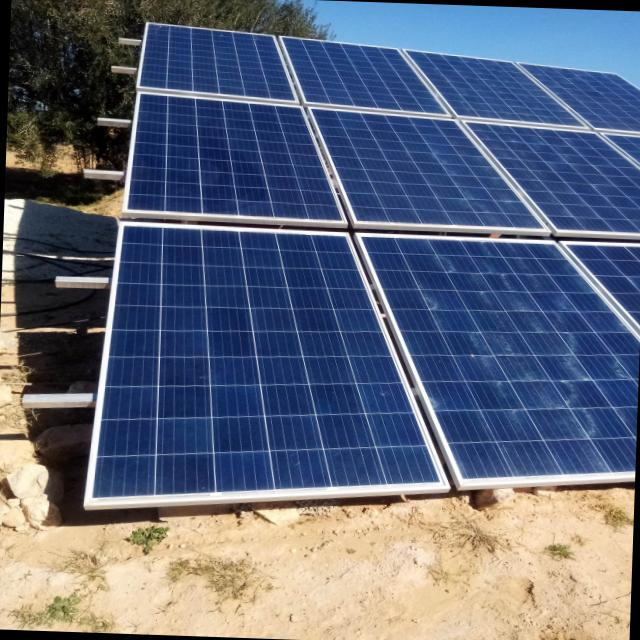faulty: (364, 237, 639, 483), (315, 111, 544, 225), (132, 95, 331, 215), (475, 124, 640, 233), (405, 49, 580, 123), (527, 67, 640, 129), (150, 26, 228, 46)
no faulty: (99, 230, 436, 496), (285, 41, 458, 112)
